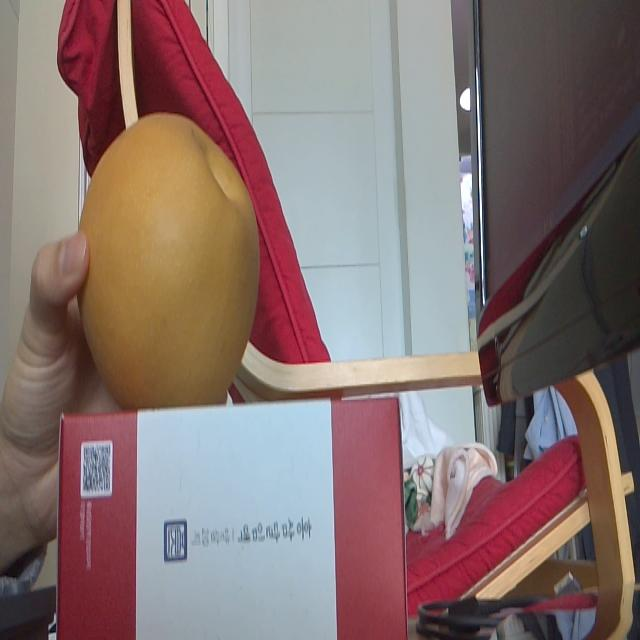pear: (77, 110, 260, 409)
